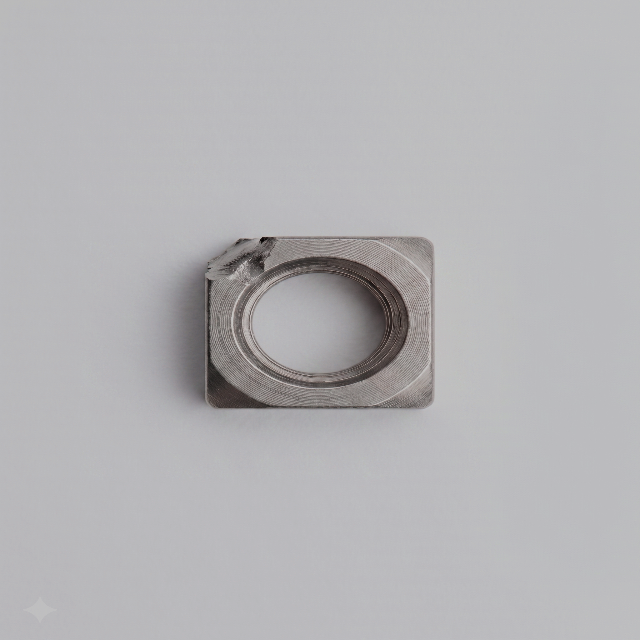defect: (197, 222, 288, 293)
